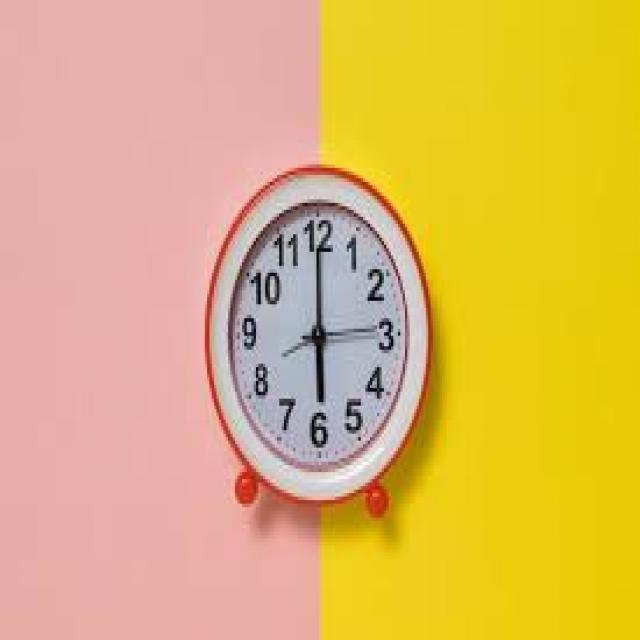Clocks-images: (206, 167, 424, 527)
